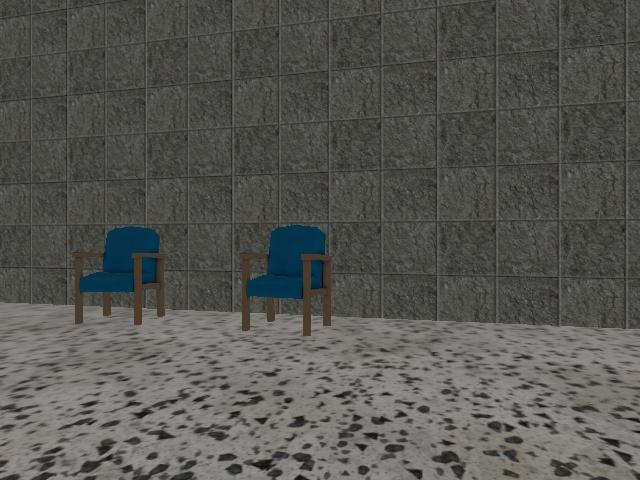chair: (239, 225, 332, 336), (72, 226, 165, 325)
